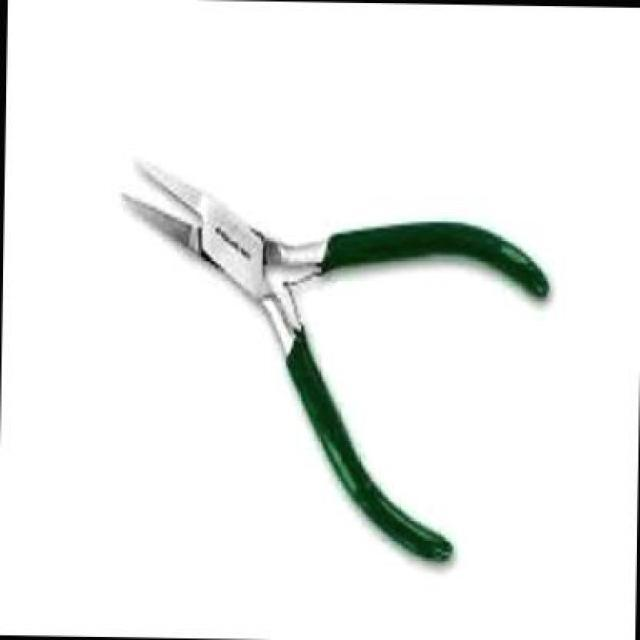pliers: (94, 138, 572, 591)
